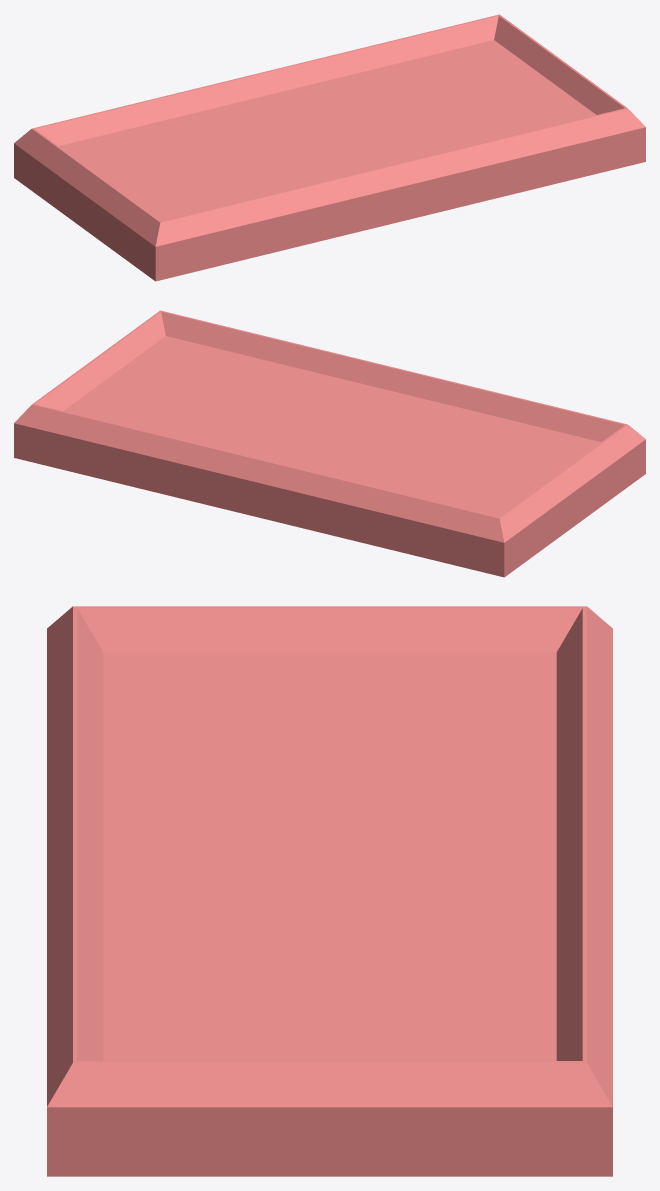
Rendered from Light_DengPian1_1X2_off.FBX.
The picture shows the model from 3 angles, top to bottom: view 1: azimuth 30°, elevation 25°; view 2: azimuth 150°, elevation 25°; view 3: azimuth 270°, elevation 25°; orthographic projection. The views are drawn at different scales.
Parts seen in each view (by area): view 1: Box002; view 2: Box002; view 3: Box002.
Boxes of the visible parts, bbox=[...] form: Box002: bbox=[14, 14, 645, 281]; Box002: bbox=[14, 310, 645, 577]; Box002: bbox=[47, 606, 612, 1176].
Size of the model in its own units: 2 by 0.2 by 1.
